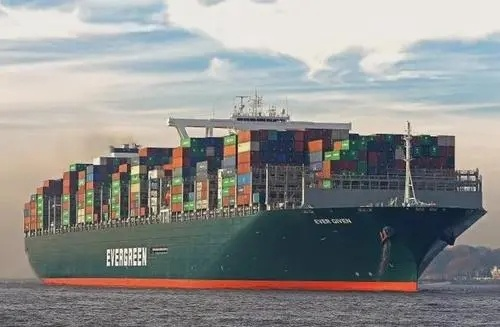Cargoship: (13, 88, 487, 286)
